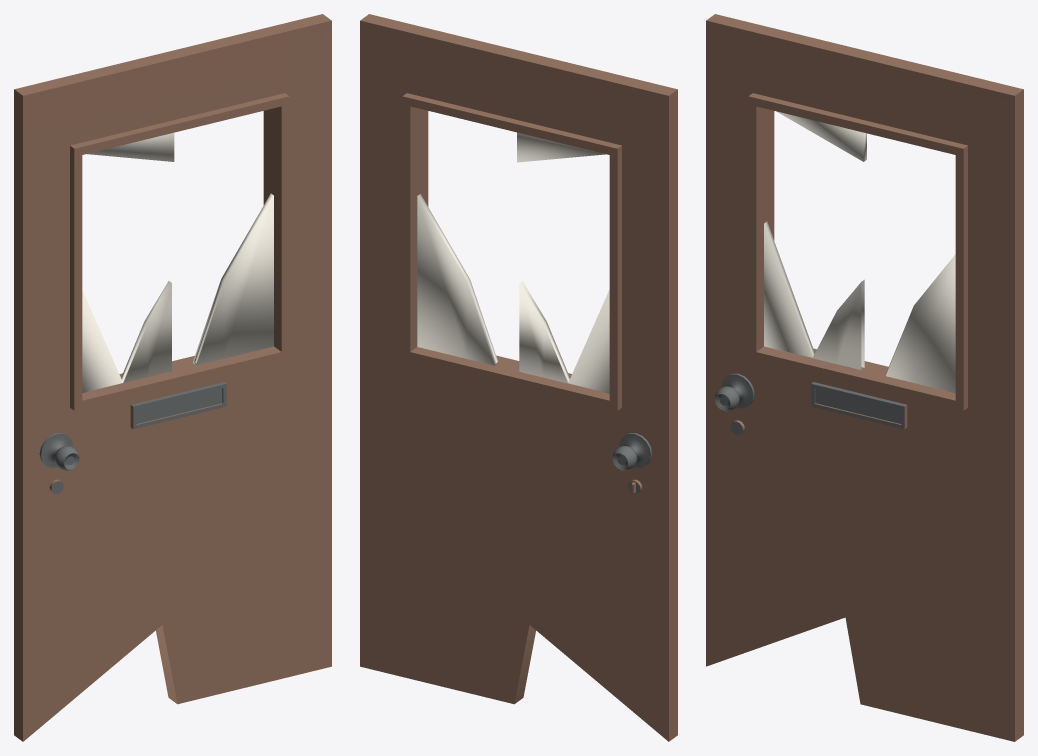
Rendered from Door2.fbx.
The picture shows the model from 3 angles, left to right: view 1: azimuth 30°, elevation 25°; view 2: azimuth 150°, elevation 25°; view 3: azimuth 330°, elevation 25°; orthographic projection.
Visible parts, largest first — view 1: door2; view 2: door2; view 3: door2.
Boxes of the visible parts, x1,y1,x2,y2 form: door2: (14,14,331,741); door2: (360,14,677,741); door2: (706,14,1023,741).
Size of the model in its own units: 99 by 198 by 22.62.
